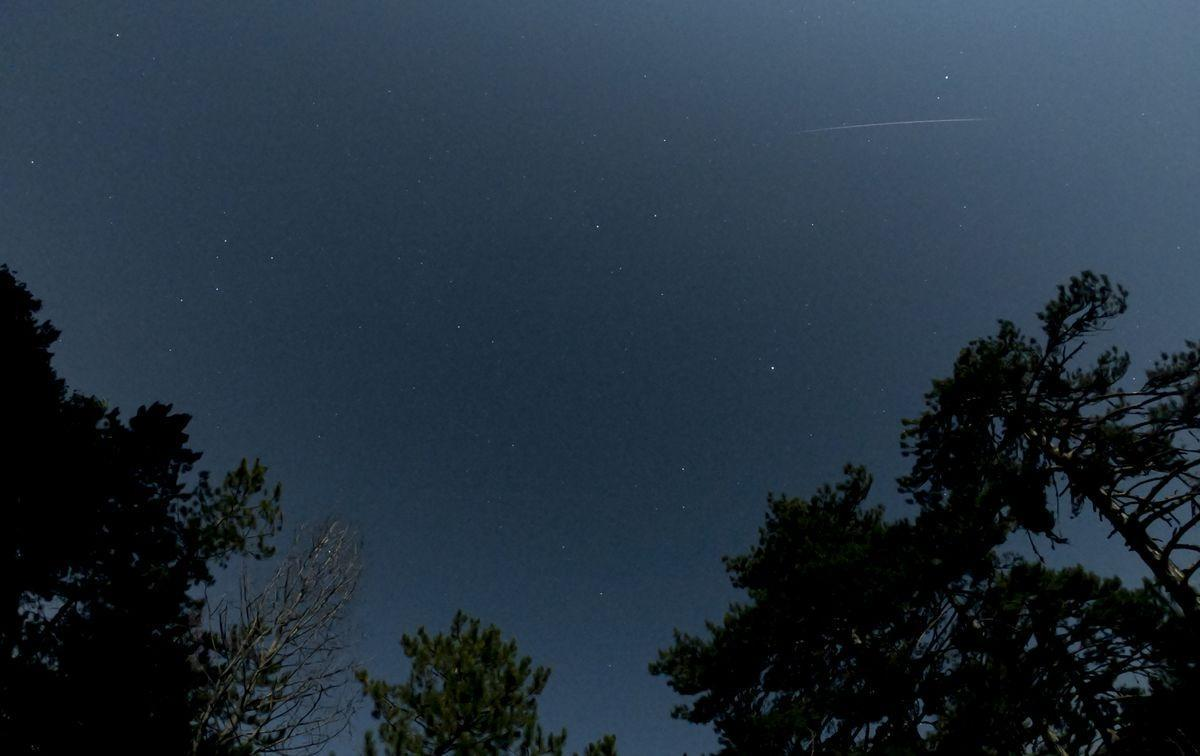meteorite: (794, 92, 992, 139)
